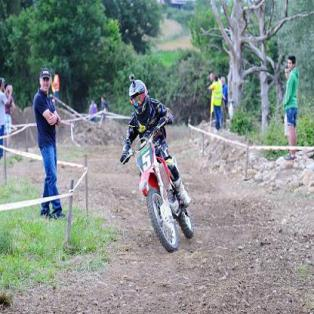Motocicleta: (122, 123, 199, 255)
